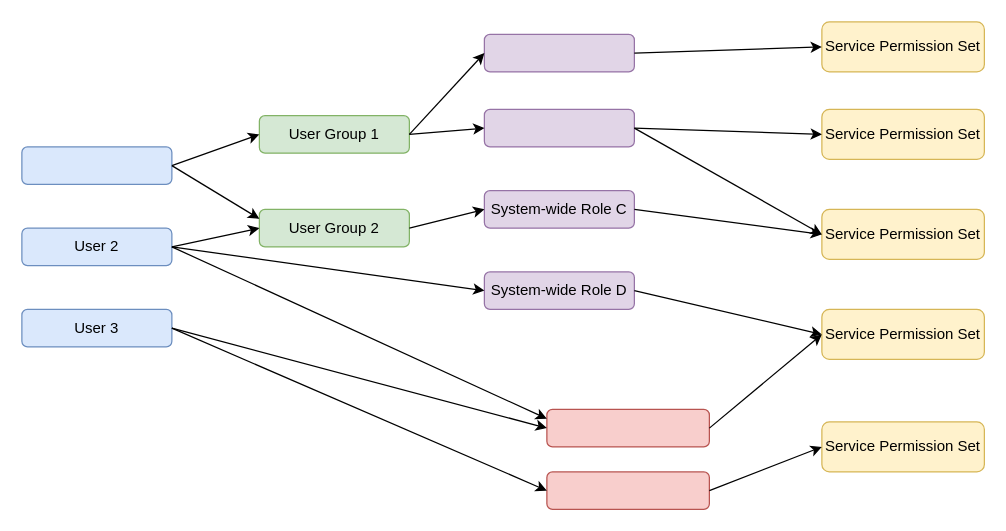
This 1006x531 diagram has some shape labels left out. The box of each missing label's shape, as (x1, y1, x2, y2) in pixels:
Service/Feature Role A: (546, 408, 709, 447)
Service/Feature Role B: (546, 471, 709, 509)
System-wide Role A: (483, 33, 634, 72)
System-wide Role B: (483, 108, 634, 147)
User 1: (21, 146, 172, 184)
